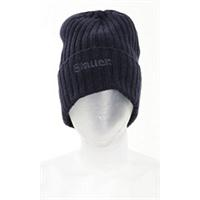hat: (58, 10, 142, 127)
